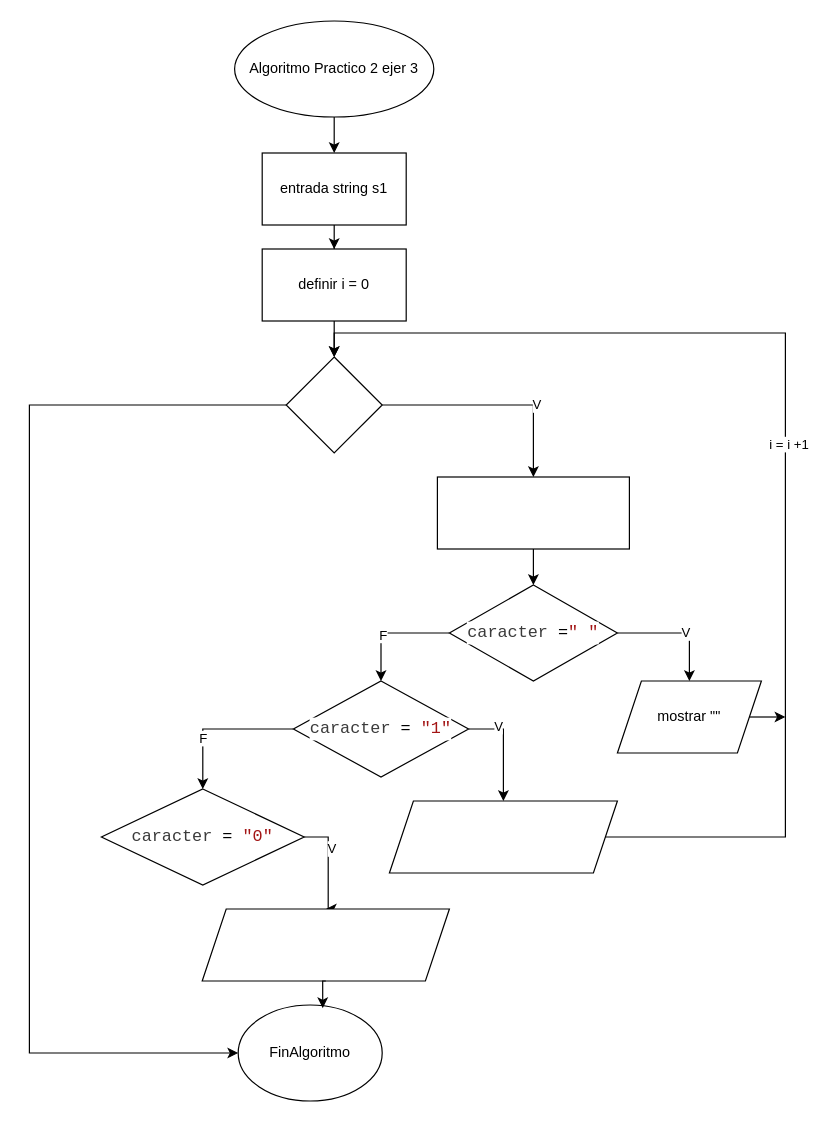
This 829x1122 diagram has some shape labels left out. The box of each missing label's shape, as (x1, y1, x2, y2) in pixels:
definir string caracter =s1[i]: (436, 476, 629, 549)
i < 20: (285, 356, 382, 453)
mostrar "No cake :(": (201, 908, 449, 981)
mostrar "Om-nom-nom :P": (388, 800, 617, 873)
